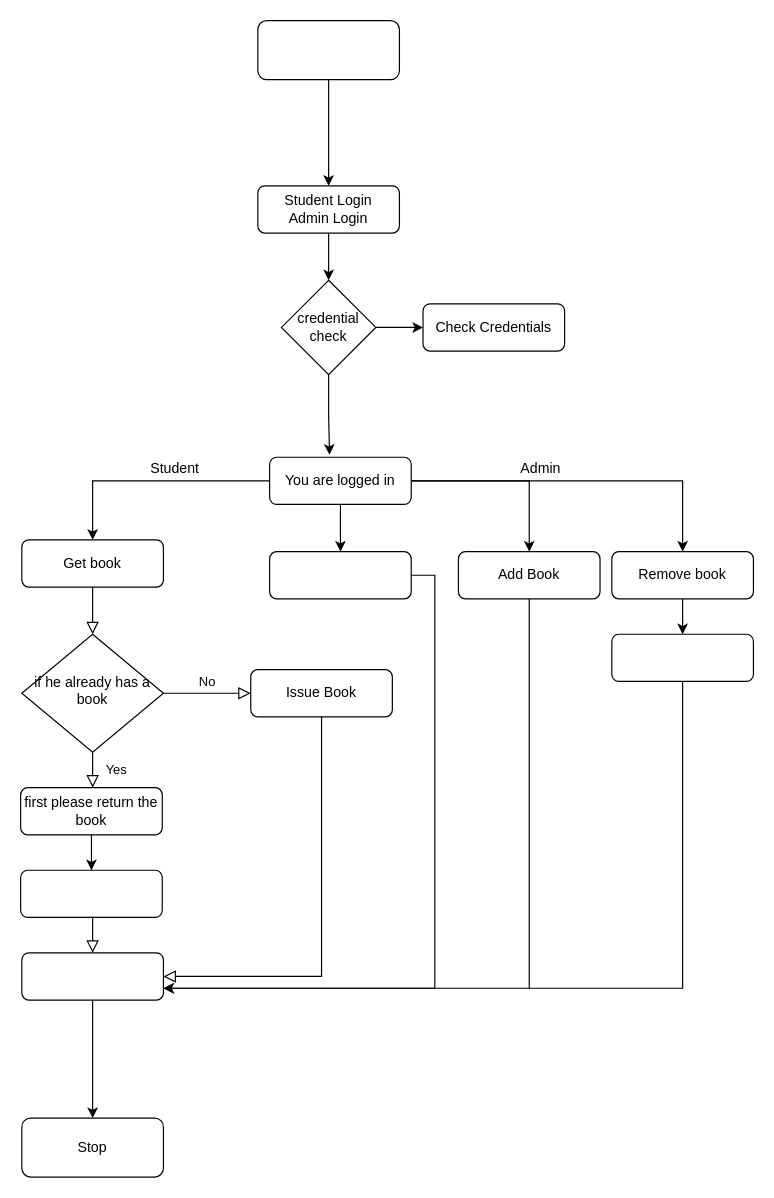
Some shapes in this 774 by 1198 pixel diagram are drawn without their labels. The box of each missing label's shape, as (x1, y1, x2, y2) in pixels:
If the student returns book: (19, 869, 162, 917)
Inventory / Change inventory: (21, 952, 163, 1000)
Remove book item: (611, 633, 753, 681)
Search book: (268, 550, 411, 599)
Start: (257, 19, 399, 80)
